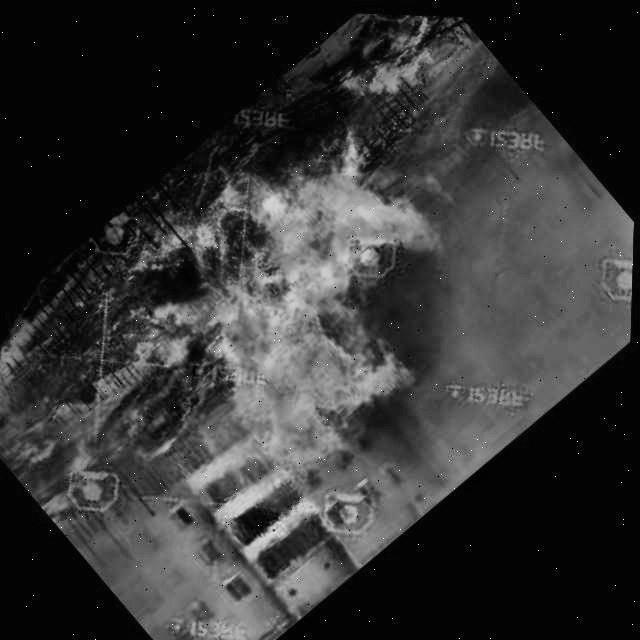Fire: (86, 79, 529, 525), (315, 9, 478, 123)
